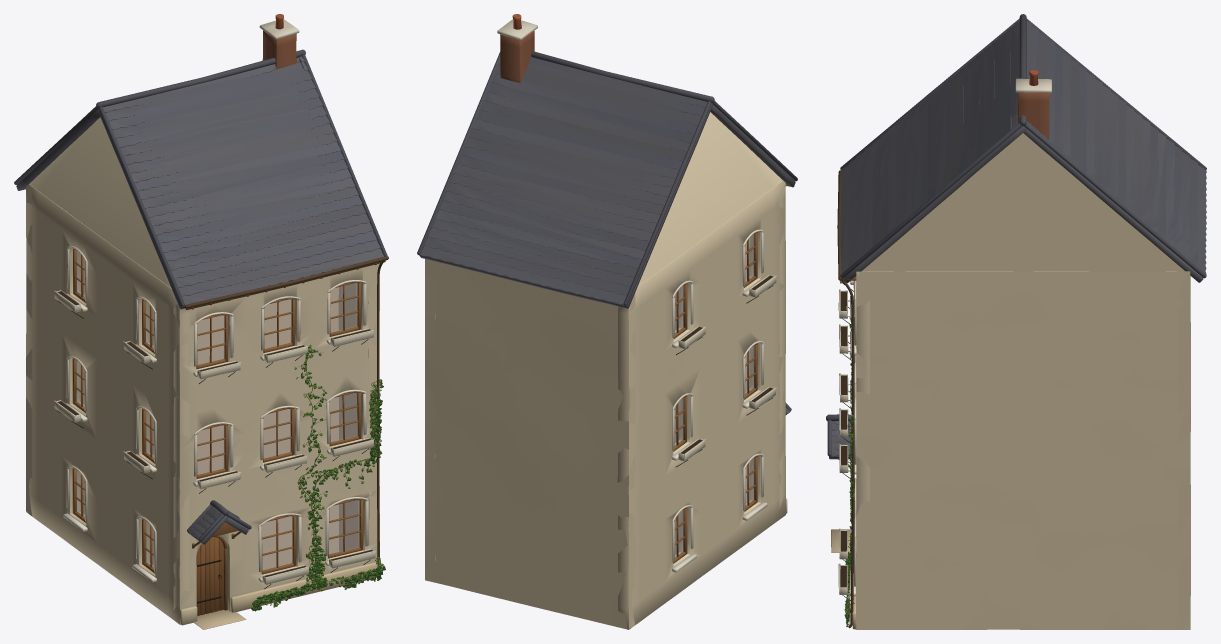
The model's file is StraightEnd_Outer6.glb.
3 views of the same model, side by side, from view 1: azimuth 30°, elevation 25°; view 2: azimuth 150°, elevation 25°; view 3: azimuth 270°, elevation 25° (orthographic). The views are drawn at different scales.
Parts seen in each view (by area): view 1: Sammel Putz, Sammel Stein, Glas, Sammel Putz innen, Sammel Holz, Sammel Pflanze, Sammel Lack, Sammel Metall, DoorLeaf Sammel Holz, Sammel Ziegel; view 2: Sammel Putz, Sammel Stein, Sammel Holz, Glas, Sammel Ziegel, Sammel Lack, Sammel Putz innen; view 3: Sammel Putz, Sammel Stein, Sammel Metall, Sammel Lack, Sammel Ziegel, Sammel Pflanze.
Boxes of the visible parts, x1,y1,x2,y2 form: Sammel Putz: [26, 14, 381, 624]; Sammel Stein: [14, 49, 387, 629]; Glas: [76, 250, 359, 570]; Sammel Putz innen: [80, 254, 358, 569]; Sammel Holz: [72, 248, 385, 610]; Sammel Pflanze: [251, 344, 385, 611]; Sammel Lack: [54, 290, 375, 584]; Sammel Metall: [57, 256, 388, 589]; DoorLeaf Sammel Holz: [196, 537, 223, 615]; Sammel Ziegel: [262, 30, 296, 69]; Sammel Putz: [425, 14, 785, 629]; Sammel Stein: [417, 51, 797, 513]; Sammel Holz: [673, 184, 787, 563]; Glas: [675, 234, 753, 557]; Sammel Ziegel: [500, 31, 534, 82]; Sammel Lack: [678, 274, 776, 461]; Sammel Putz innen: [674, 238, 749, 554]; Sammel Putz: [840, 70, 1190, 629]; Sammel Stein: [826, 14, 1206, 629]; Sammel Metall: [837, 170, 854, 628]; Sammel Lack: [838, 281, 848, 594]; Sammel Ziegel: [1018, 92, 1049, 139]; Sammel Pflanze: [844, 320, 854, 626].
Bounding box in the file's own units: 6.49 × 14.56 × 9.12.
